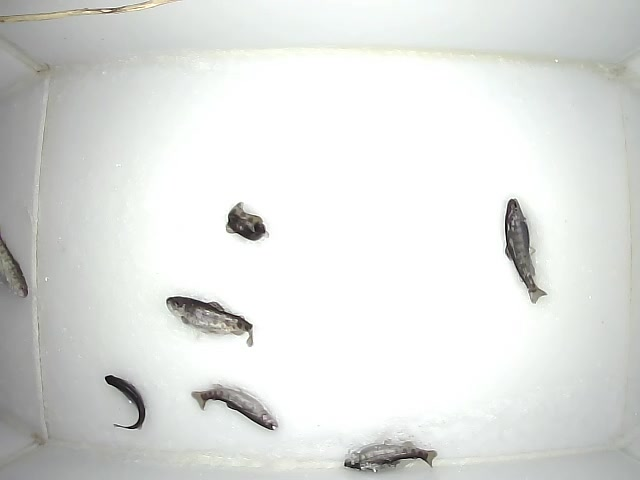fish: (164, 295, 255, 350), (504, 197, 548, 305), (190, 383, 281, 431), (342, 437, 438, 473), (102, 373, 147, 430), (223, 199, 273, 242)
